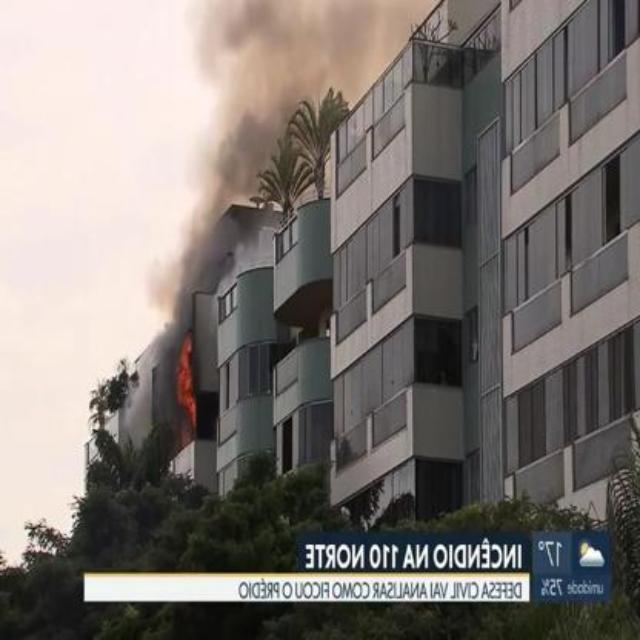Fire: (178, 328, 196, 437)
Smoke: (205, 2, 440, 188), (154, 188, 240, 330)
